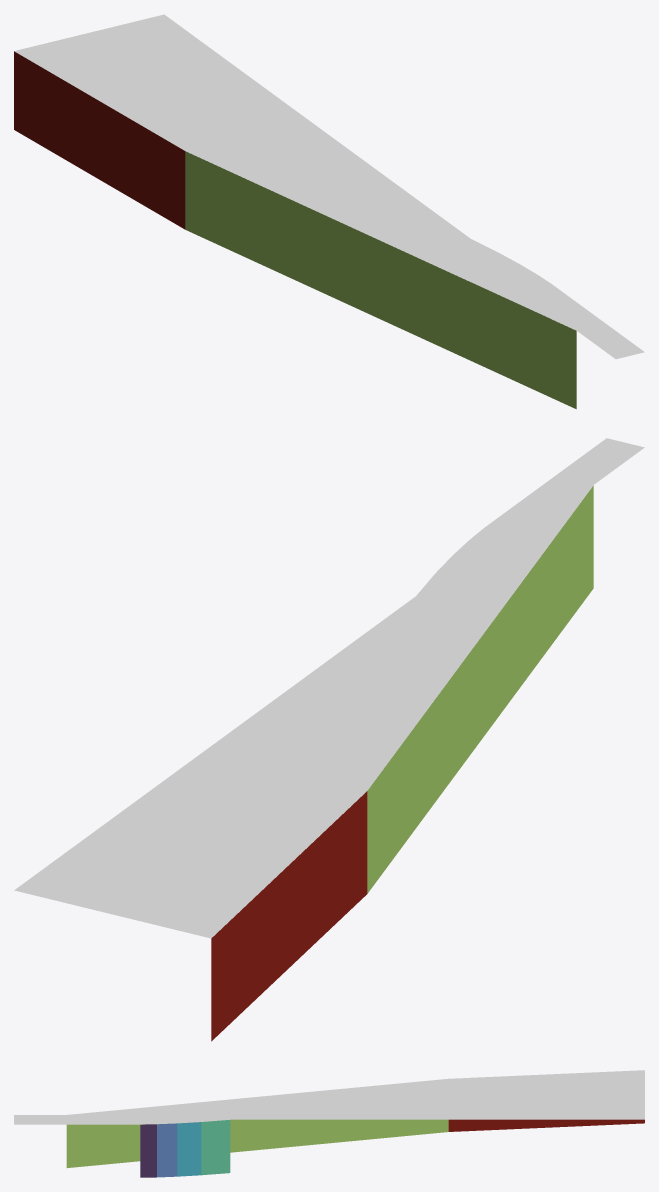
The model's file is scramjet_n2_m5.glb.
3 views of the same model, one above another, from view 1: azimuth 30°, elevation 25°; view 2: azimuth 150°, elevation 25°; view 3: azimuth 270°, elevation 25° (orthographic). The views are drawn at different scales.
Parts seen in each view (by area): view 1: Renderer Node; view 2: Renderer Node; view 3: Renderer Node.
Part boxes in pixels (bbox=[...]): Renderer Node: bbox=[14, 14, 644, 409]; Renderer Node: bbox=[14, 438, 644, 1041]; Renderer Node: bbox=[14, 1070, 644, 1177].
Size of the model in its own units: 1.1 by 0.5005 by 5.37.
